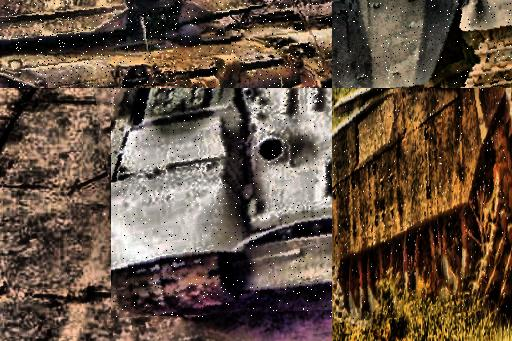tanks: (113, 89, 333, 318), (333, 89, 509, 323), (1, 1, 333, 89), (333, 1, 512, 89), (313, 29, 333, 89)
